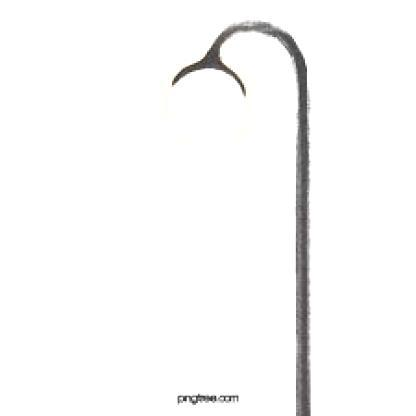light_pole: (172, 19, 314, 415)
